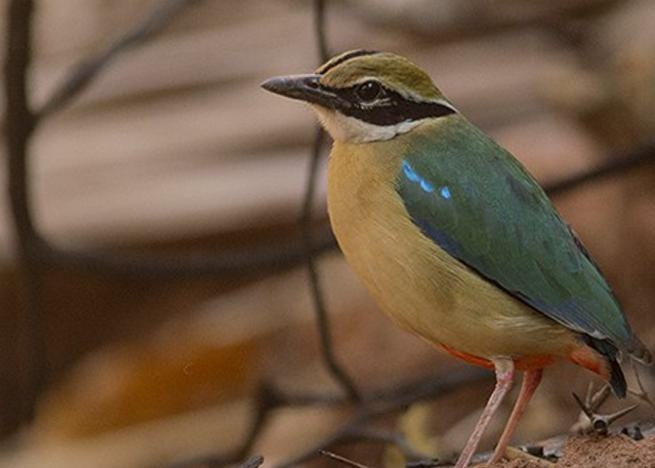pitta: (280, 44, 602, 448)
